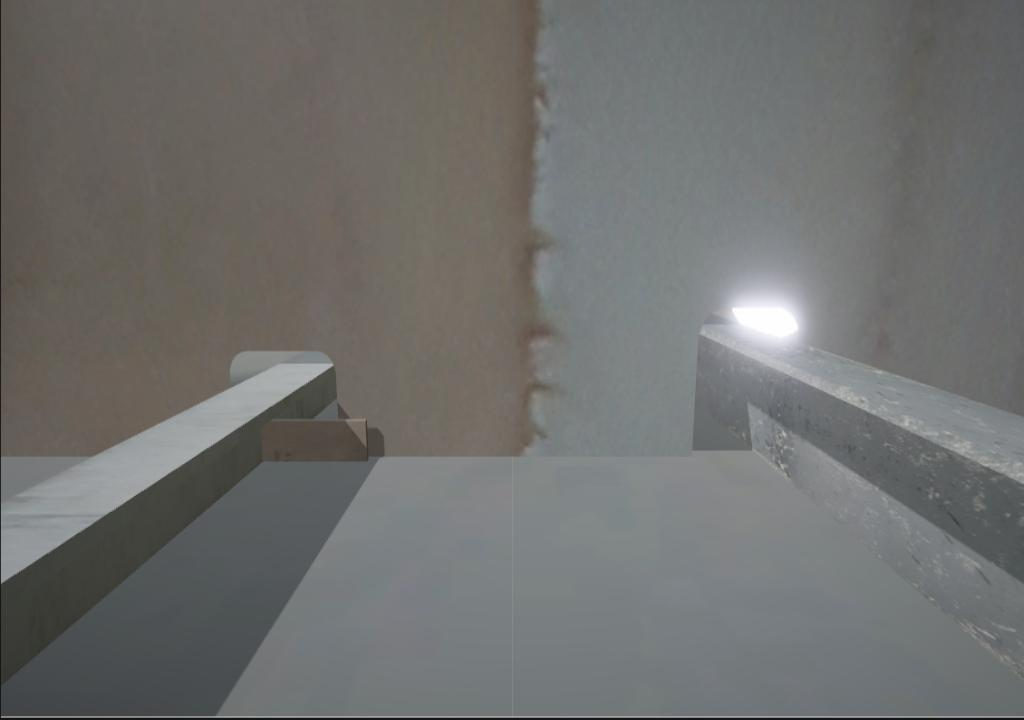fillet_yong_jeop_jang: (369, 445, 700, 468)
plate_CP01: (262, 418, 368, 465)
